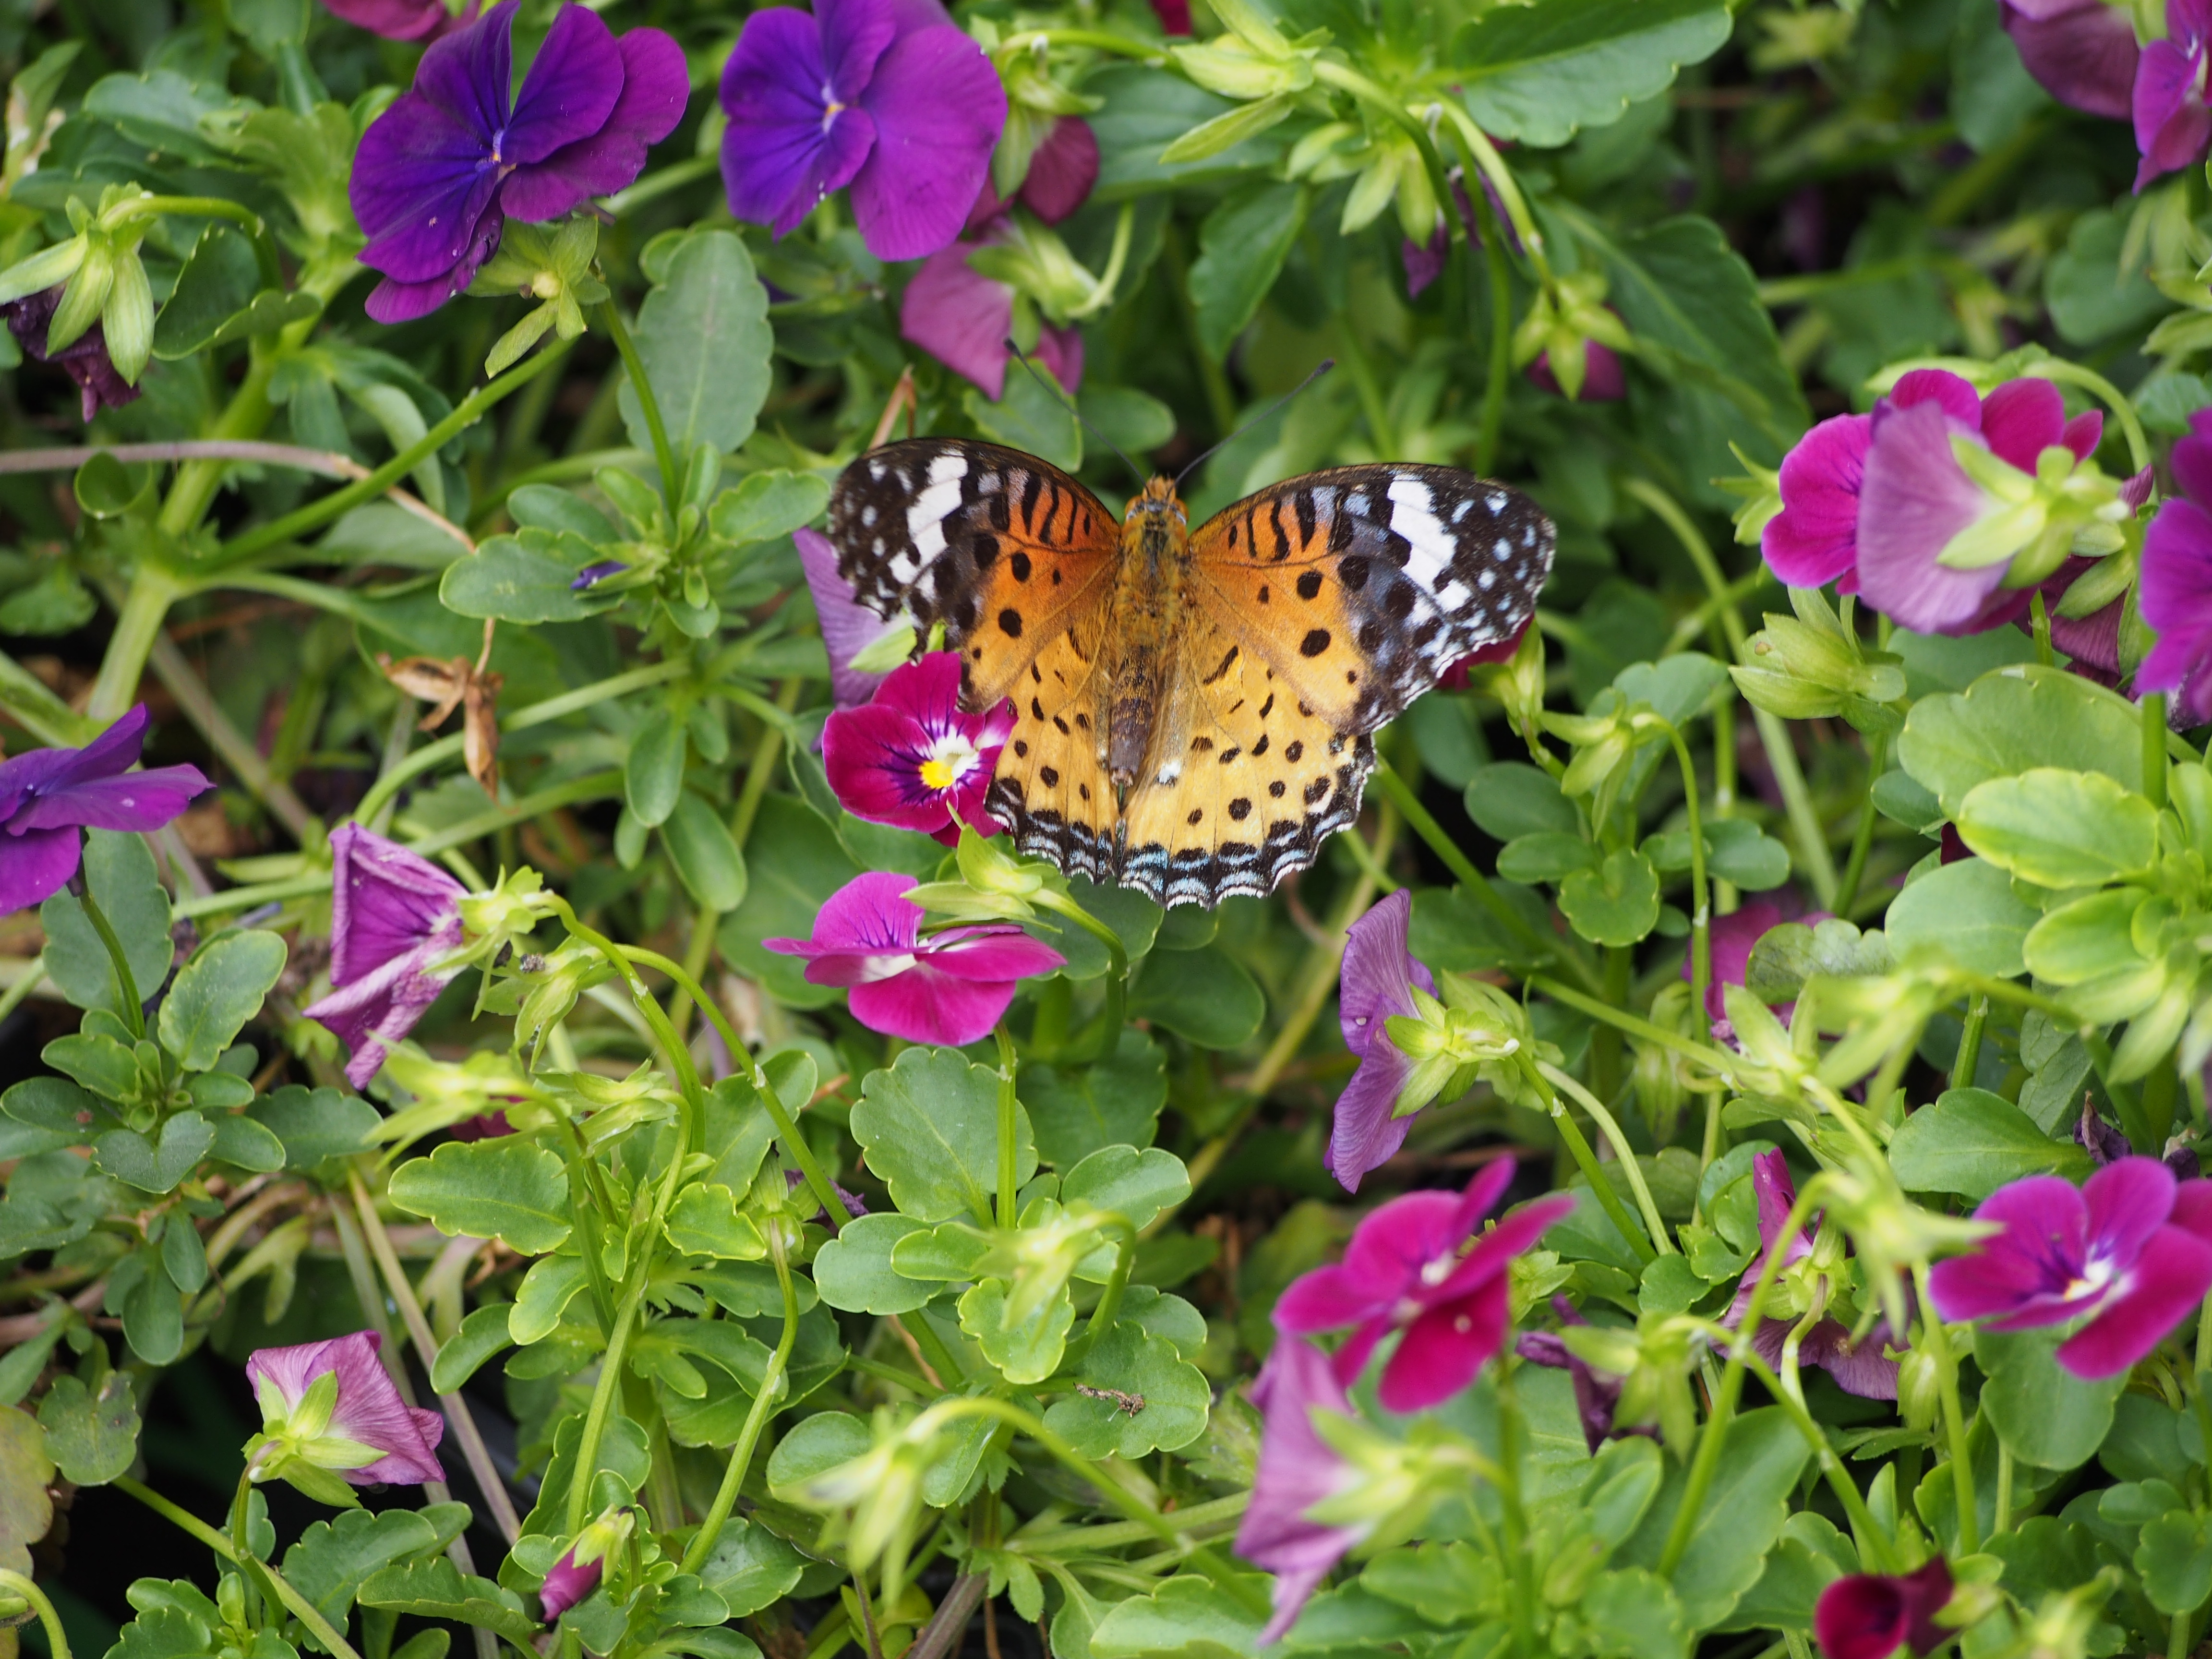Argyreus hyperbius: (815, 378, 1583, 911)
butterfly: (817, 378, 1585, 913)
